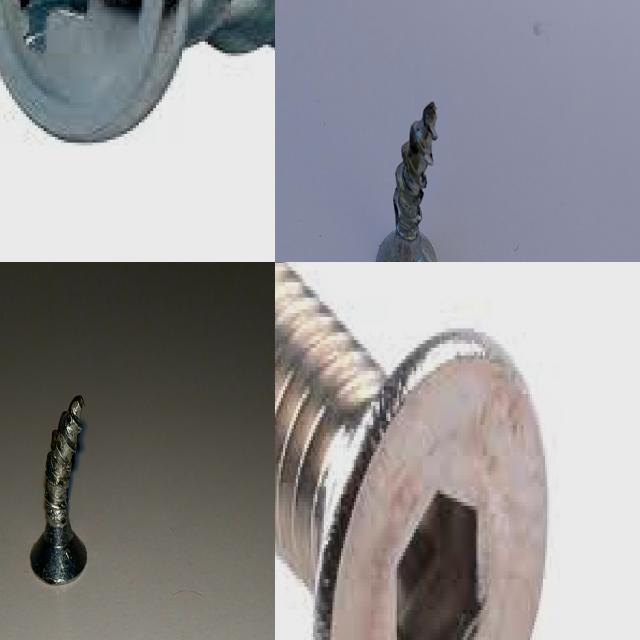Screw: (275, 262, 549, 640), (0, 0, 275, 146), (30, 394, 86, 583), (376, 101, 437, 262)
